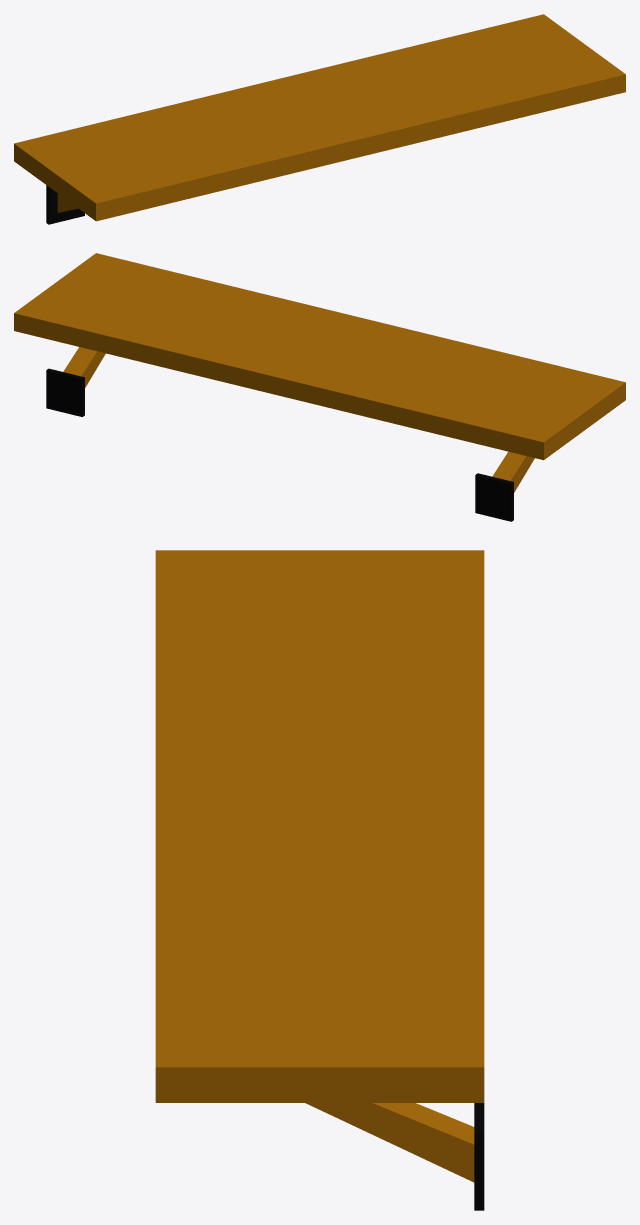
Rendered from Shelf_04.fbx.
The picture shows the model from 3 angles, top to bottom: view 1: azimuth 30°, elevation 25°; view 2: azimuth 150°, elevation 25°; view 3: azimuth 270°, elevation 25°; orthographic projection. The views are drawn at different scales.
Visible parts, largest first — view 1: Shelf_04; view 2: Shelf_04; view 3: Shelf_04.
Boxes of the visible parts, <box> form: Shelf_04: <box>14,14,625,224</box>; Shelf_04: <box>14,253,625,521</box>; Shelf_04: <box>155,550,484,1210</box>.
Bounding box in the file's own units: 200 × 31.49 × 53.7.
